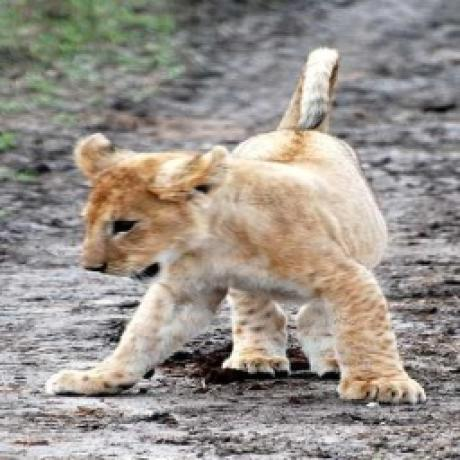Lion: (47, 44, 430, 406)
